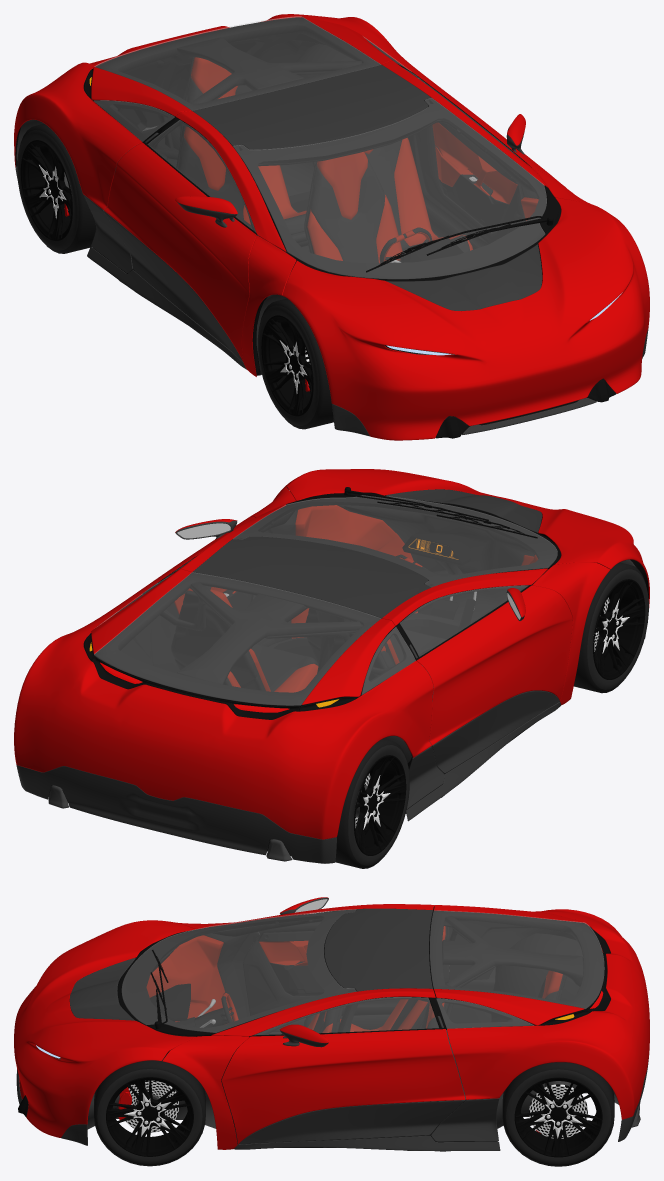
The model's file is idle-ev-concept.glb.
3 renders of one model, top to bottom at view 1: azimuth 30°, elevation 25°; view 2: azimuth 150°, elevation 25°; view 3: azimuth 270°, elevation 25°, orthographic. The views are drawn at different scales.
Parts seen in each view (by area): view 1: BodyHood, BodyWindshield, BodyRearwindow, BodyDoorRColor1, BodyRearPanelsColor1, BodyRoofPanel, BodyWindshieldGasket, InteriorSeatsColor1, InteriorSeatsColor2, BodyPillars, InteriorPillar, InteriorRearHatch (+21 smaller); view 2: BodyRearPanelsColor1, BodyRearwindow, BodyWindshield, BodyPanelsColor2, BodyDoorRColor1, BodyRoofPanel, BodyHood, InteriorRearHatch, BodyPillars, InteriorPillar, BodyWindshieldGasket, InteriorDashMid (+21 smaller); view 3: BodyRearPanelsColor1, BodyWindshield, BodyDoorLColor1, BodyHood, BodyRearwindow, BodyRoofPanel, BodyPillars, BodyWindshieldGasket, BodyDoorLColor2, BodyPanelsColor2, InteriorRearHatch, WheelFrontLRim (+25 smaller).
Boxes of the visible parts, <box> form: BodyHood: <box>282,197,649,440</box>; BodyWindshield: <box>233,98,546,278</box>; BodyRearwindow: <box>94,16,380,110</box>; BodyDoorRColor1: <box>104,142,256,361</box>; BodyRearPanelsColor1: <box>14,14,427,209</box>; BodyRoofPanel: <box>193,65,430,149</box>; BodyWindshieldGasket: <box>233,99,561,281</box>; InteriorSeatsColor1: <box>184,57,472,263</box>; InteriorSeatsColor2: <box>179,78,469,263</box>; BodyPillars: <box>175,61,595,376</box>; InteriorPillar: <box>157,37,432,168</box>; InteriorRearHatch: <box>93,17,380,117</box>; BodyRearPanelsColor1: <box>14,569,433,839</box>; BodyRearwindow: <box>94,572,380,705</box>; BodyWindshield: <box>233,495,557,586</box>; BodyPanelsColor2: <box>16,635,645,863</box>; BodyDoorRColor1: <box>416,585,572,745</box>; BodyRoofPanel: <box>192,536,430,618</box>; BodyHood: <box>283,469,649,607</box>; InteriorRearHatch: <box>94,573,394,709</box>; BodyPillars: <box>179,487,609,704</box>; InteriorPillar: <box>177,574,425,684</box>; BodyWindshieldGasket: <box>234,495,561,587</box>; InteriorDashMid: <box>337,501,538,623</box>; BodyRearPanelsColor1: <box>434,905,649,1119</box>; BodyWindshield: <box>122,909,356,1032</box>; BodyDoorLColor1: <box>221,1029,465,1144</box>; BodyHood: <box>14,920,195,1137</box>; BodyRearwindow: <box>430,910,604,1008</box>; BodyRoofPanel: <box>324,908,432,991</box>; BodyPillars: <box>162,904,435,1149</box>; BodyWindshieldGasket: <box>117,910,356,1036</box>; BodyDoorLColor2: <box>239,1100,465,1144</box>; BodyPanelsColor2: <box>16,1054,649,1151</box>; InteriorRearHatch: <box>429,910,603,1025</box>; WheelFrontLRim: <box>106,1077,193,1156</box>.
Size of the model in its own units: 2.34 by 1.15 by 4.36.
Materials: 22 (2 with a texture image).
